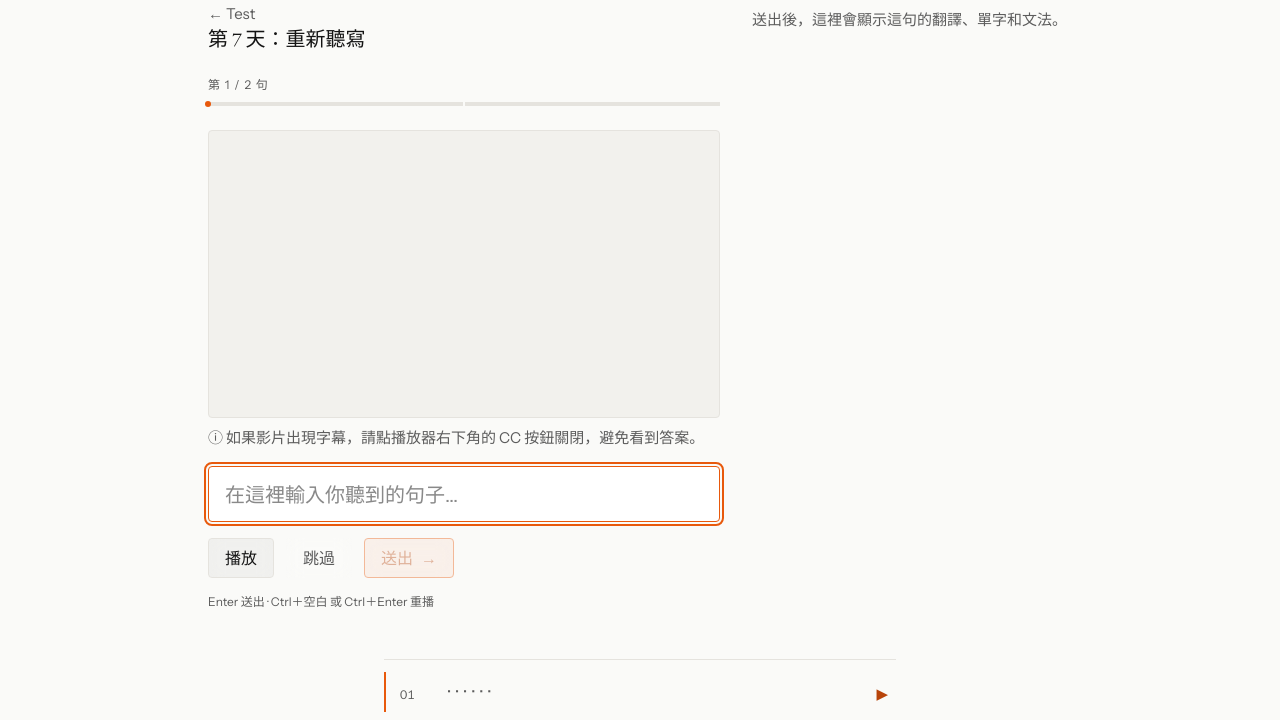
it: Day 7 re-dictation › ends with the week result and settles the week
Type "go home" into the text box labelled "你聽到的句子" at (464, 494), box [208,466,720,522]
Then press Enter
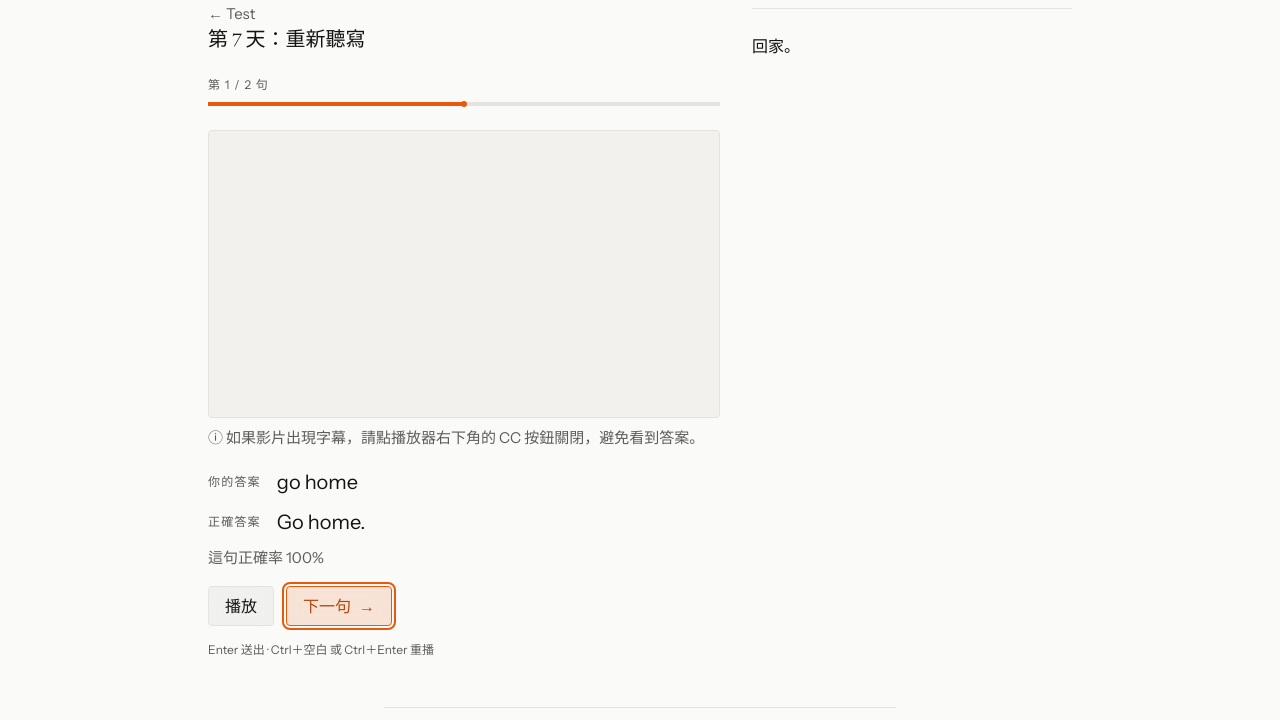
Now the text "回家。" is shown, box [752,36,800,56]
Press Enter
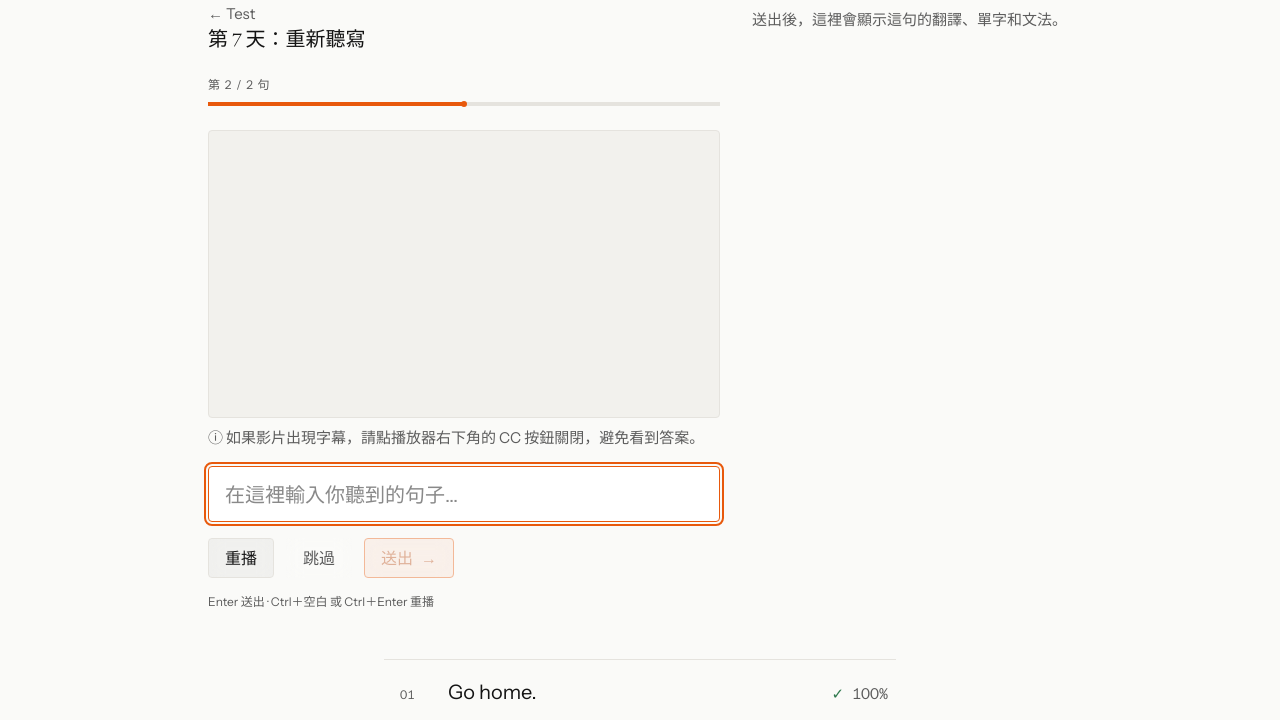
Type "we moved to the city" into the text box labelled "你聽到的句子" at (464, 494), box [208,466,720,522]
Then press Enter
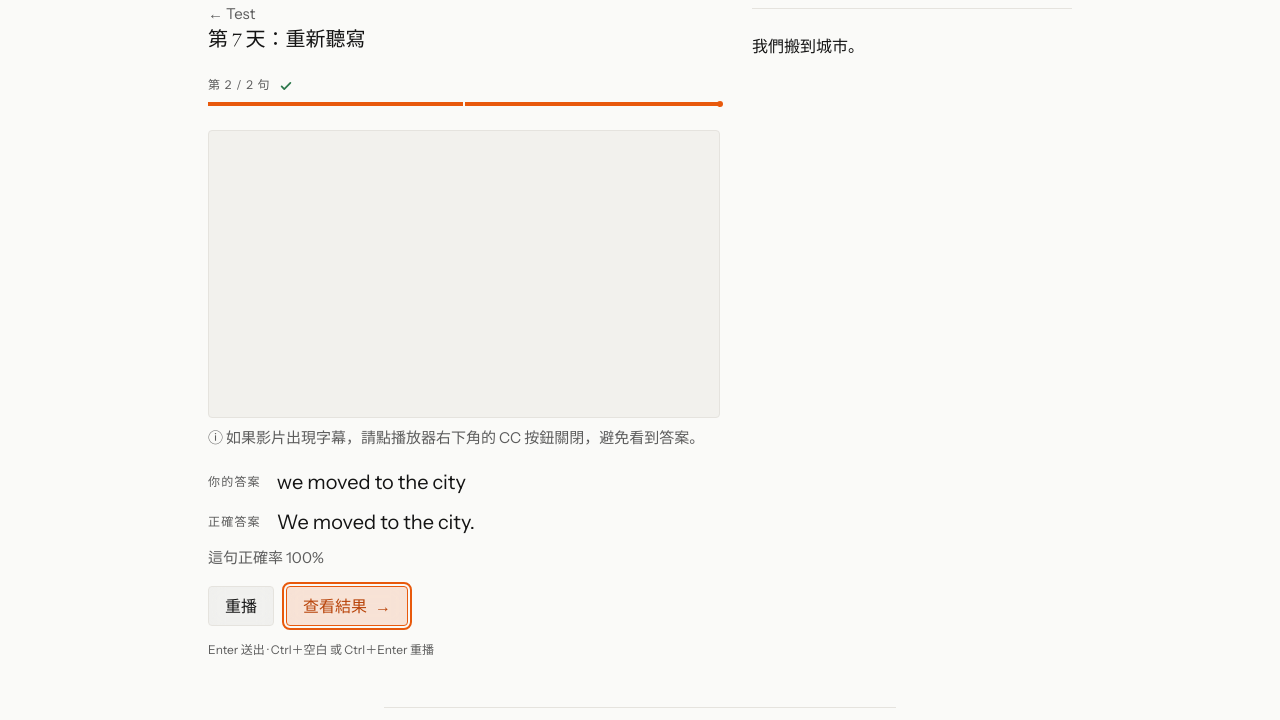
Press Enter
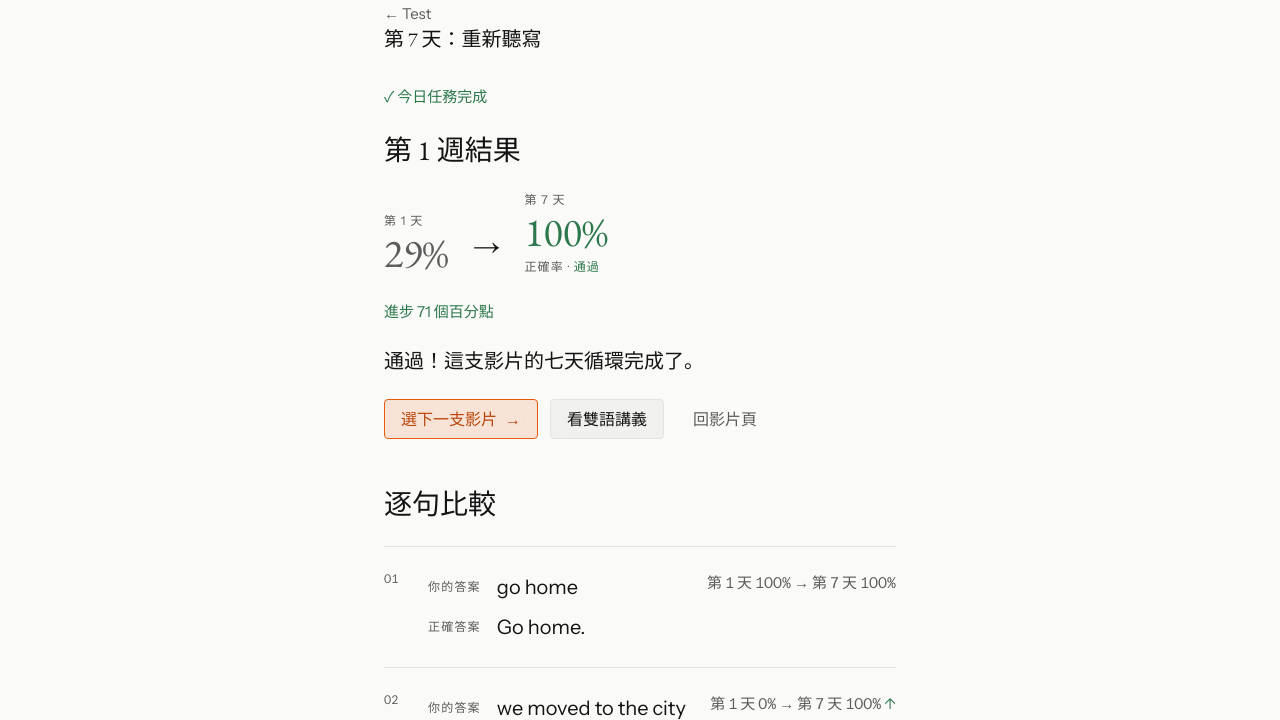
Now the heading "第 1 週結果" is shown, box [384,132,521,168]
Now the text "進步 71 個百分點" is shown, box [384,302,494,321]
Now the text "通過！這支影片的七天循環完成了。" is shown, box [384,348,704,374]
